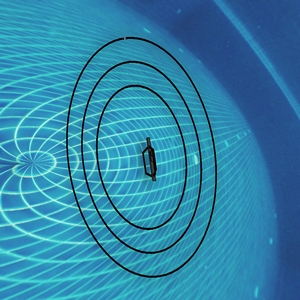circle: (47, 33, 244, 289)
submarine: (141, 139, 158, 184)
